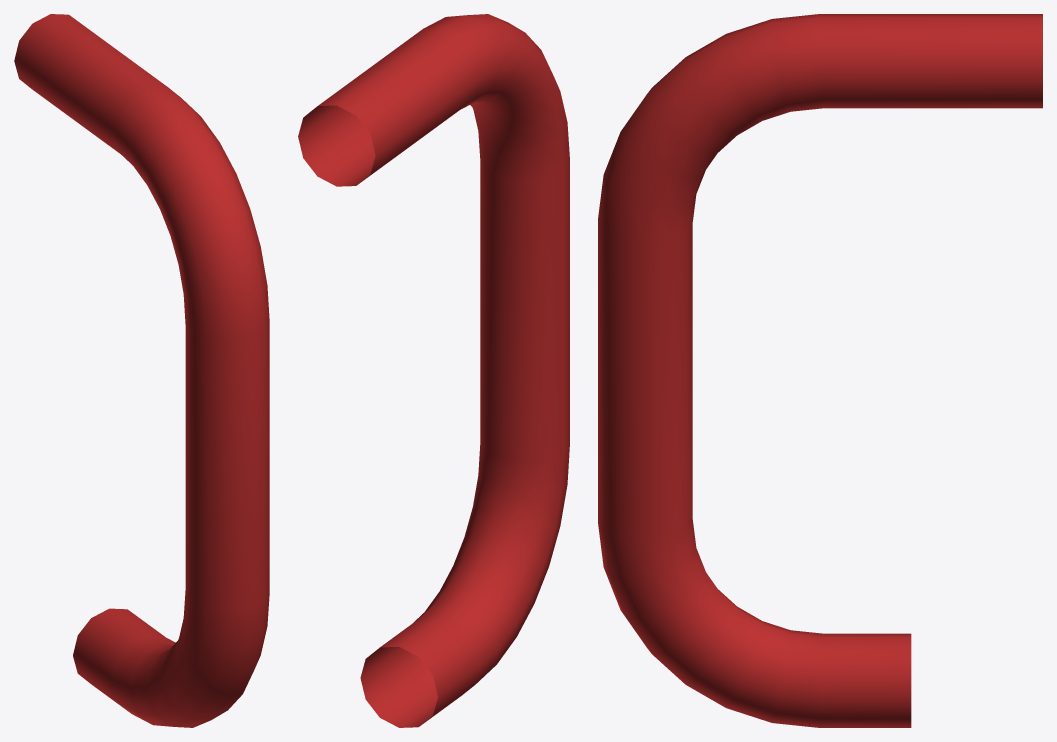
Rendered from SM_Window_Handle.fbx.
The picture shows the model from 3 angles, left to right: view 1: azimuth 30°, elevation 25°; view 2: azimuth 150°, elevation 25°; view 3: azimuth 270°, elevation 25°; orthographic projection. The views are drawn at different scales.
Parts seen in each view (by area): view 1: SM_Window_Handle; view 2: SM_Window_Handle; view 3: SM_Window_Handle.
Part boxes in pixels (bbox=[...]): SM_Window_Handle: bbox=[14, 14, 269, 727]; SM_Window_Handle: bbox=[298, 14, 569, 727]; SM_Window_Handle: bbox=[598, 14, 1042, 727].
Bounding box in the file's own units: 1.6 × 13.16 × 7.52.
